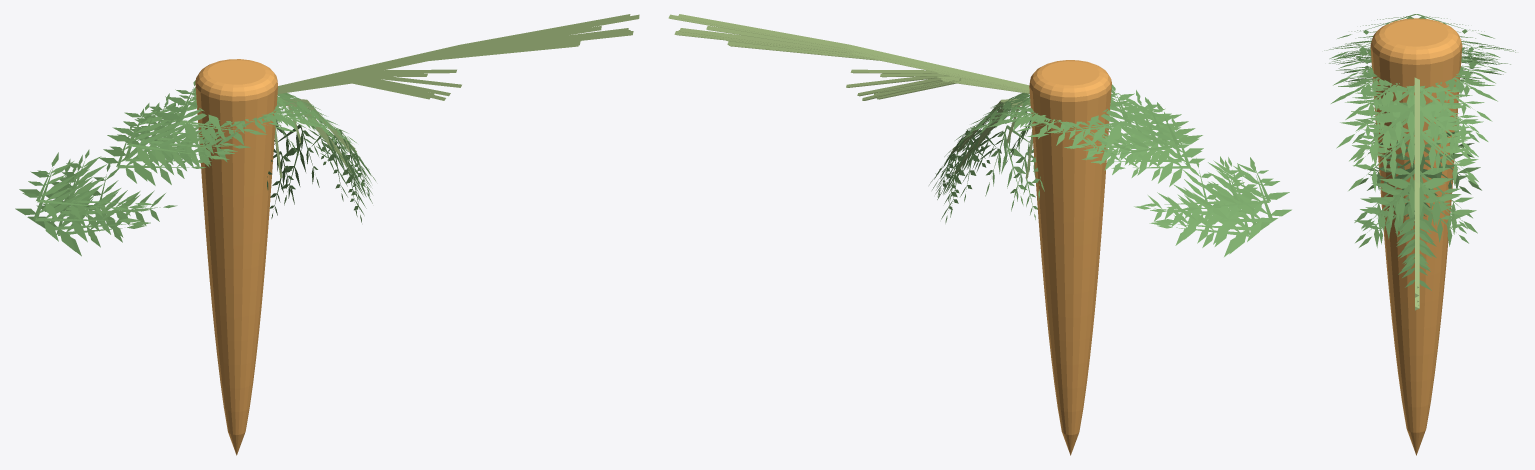
The model's file is carrot_harvest_v06.articulated.glb.
3 views of the same model, side by side, from view 1: azimuth 30°, elevation 25°; view 2: azimuth 150°, elevation 25°; view 3: azimuth 270°, elevation 25° (orthographic). The views are drawn at different scales.
Visible parts, largest first — view 1: root, leaf06_link2, leaf07_link2, leaf05_link2, leaf04_link2, leaf03_link2, leaf06_link0, leaf02_link2, leaf01_link2, leaf08_link2, leaf00_link2, leaf03_link0 (+1 smaller); view 2: root, leaf06_link2, leaf07_link2, leaf05_link2, leaf04_link2, leaf03_link2, leaf02_link2, leaf08_link0, leaf08_link2, leaf01_link2, leaf00_link2, leaf05_link0 (+1 smaller); view 3: root, leaf04_link2, leaf07_link2, leaf05_link2, leaf01_link2, leaf06_link2, leaf03_link2, leaf02_link2, leaf08_link0, leaf00_link2, leaf08_link2.
Part boxes in pixels (box(x1,y1,x2,y2)): root: box(195, 59, 277, 455); leaf06_link2: box(22, 92, 337, 221); leaf07_link2: box(27, 80, 371, 251); leaf05_link2: box(15, 93, 371, 242); leaf04_link2: box(55, 87, 375, 231); leaf03_link2: box(39, 93, 372, 256); leaf06_link0: box(277, 14, 639, 91); leaf02_link2: box(49, 91, 360, 226); leaf01_link2: box(43, 93, 375, 225); leaf08_link2: box(52, 104, 304, 217); leaf00_link2: box(86, 104, 306, 230); leaf03_link0: box(277, 31, 633, 91); root: box(1029, 60, 1111, 455); leaf06_link2: box(972, 93, 1289, 218); leaf07_link2: box(942, 84, 1277, 254); leaf05_link2: box(932, 93, 1291, 244); leaf04_link2: box(933, 88, 1252, 231); leaf03_link2: box(937, 90, 1269, 256); leaf02_link2: box(949, 95, 1257, 224); leaf08_link0: box(677, 14, 1029, 90); leaf08_link2: box(994, 102, 1247, 224); leaf01_link2: box(929, 93, 1257, 230); leaf00_link2: box(1003, 114, 1224, 226); leaf05_link0: box(679, 28, 1029, 90); root: box(1370, 18, 1462, 455); leaf04_link2: box(1343, 47, 1497, 263); leaf07_link2: box(1329, 47, 1510, 277); leaf05_link2: box(1324, 38, 1515, 263); leaf01_link2: box(1340, 51, 1484, 269); leaf06_link2: box(1329, 14, 1500, 207); leaf03_link2: box(1331, 51, 1503, 290); leaf02_link2: box(1334, 48, 1487, 250); leaf08_link0: box(1414, 77, 1419, 288); leaf00_link2: box(1345, 61, 1483, 216); leaf08_link2: box(1348, 50, 1497, 157).
Size of the model in its own units: 0.3132 by 0.1897 by 0.0812.
Materials: 1 (1 with a texture image).
